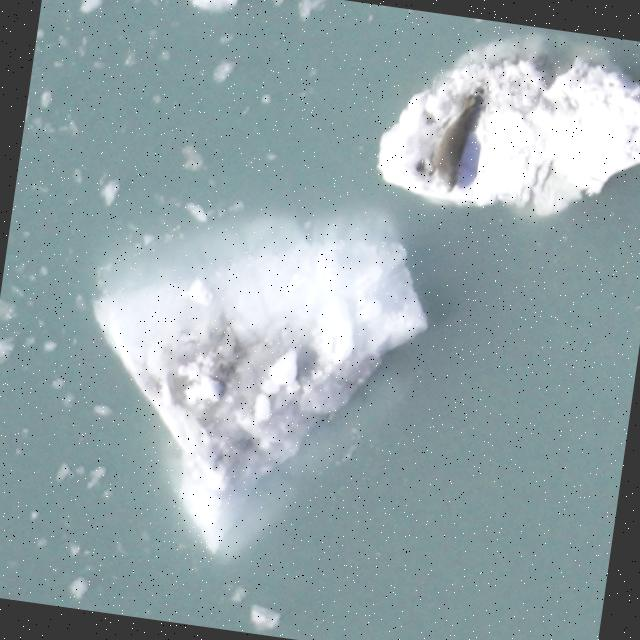seal: (418, 76, 490, 200)
